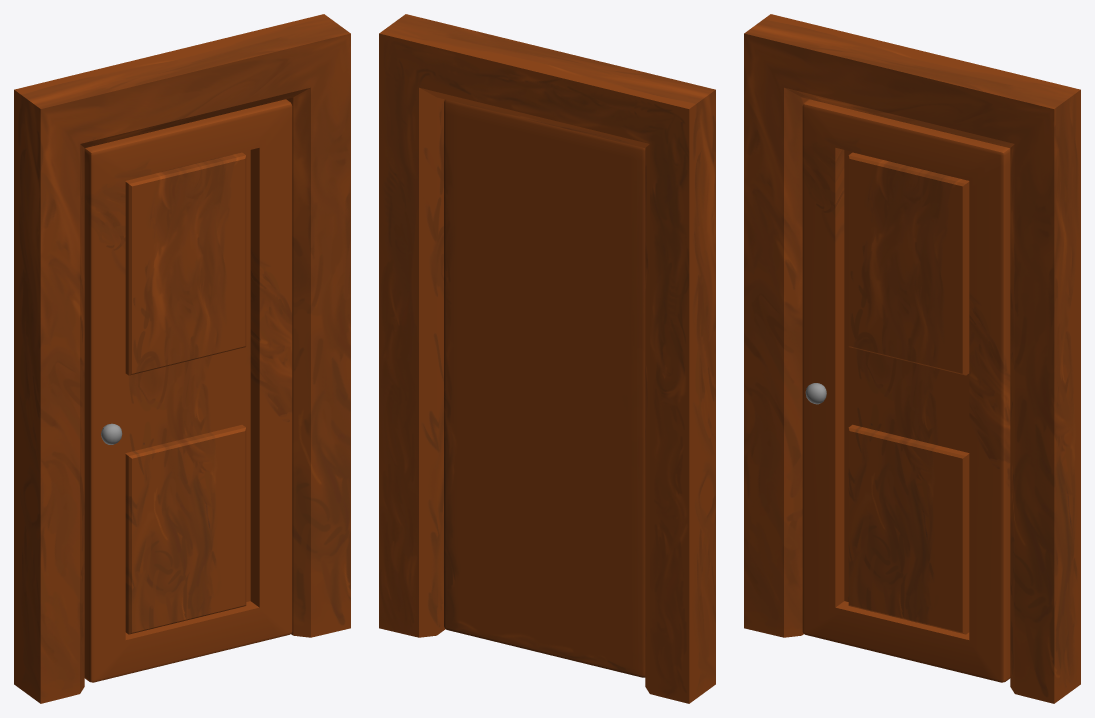
Rendered from Puerta_Lista.fbx.
3 renders of one model, left to right at view 1: azimuth 30°, elevation 25°; view 2: azimuth 150°, elevation 25°; view 3: azimuth 330°, elevation 25°, orthographic.
Parts seen in each view (by area): view 1: pCube2, polySurface1; view 2: pCube2, polySurface1; view 3: pCube2, polySurface1.
Part boxes in pixels (x1,y1,x2,y2): pCube2: [84, 99, 292, 682]; polySurface1: [14, 14, 350, 703]; pCube2: [444, 99, 645, 677]; polySurface1: [379, 14, 715, 703]; pCube2: [802, 99, 1010, 682]; polySurface1: [744, 14, 1080, 703].
Size of the model in its own units: 1.03 by 1.88 by 0.1764.
